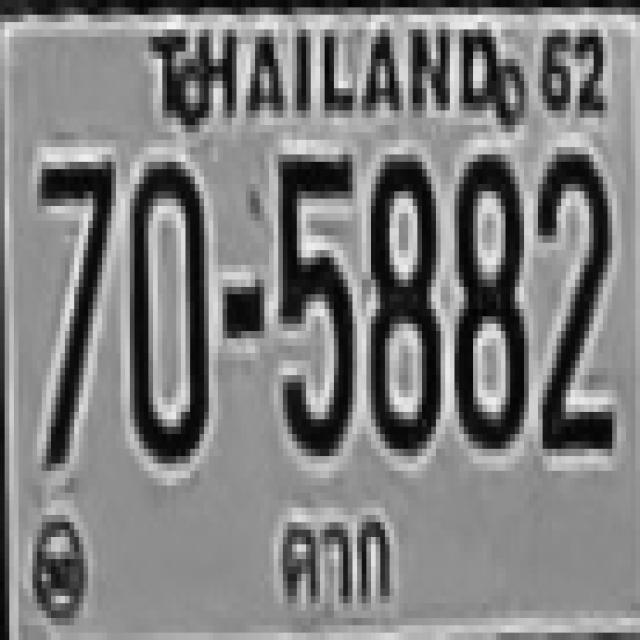0: (125, 155, 204, 456)
2: (534, 147, 608, 449)
5: (276, 147, 350, 449)
7: (37, 154, 111, 463), (37, 155, 111, 353)
8: (450, 147, 524, 442), (366, 151, 436, 445)
Tak: (274, 512, 399, 616)
